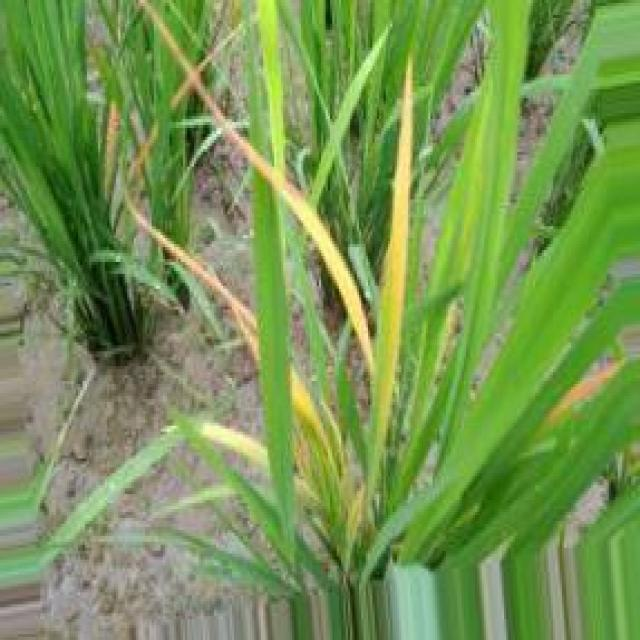Rice Tungro: (143, 0, 374, 371), (127, 200, 259, 361), (130, 203, 259, 363), (369, 57, 414, 486), (546, 359, 623, 425), (200, 422, 269, 469), (290, 367, 327, 446)
